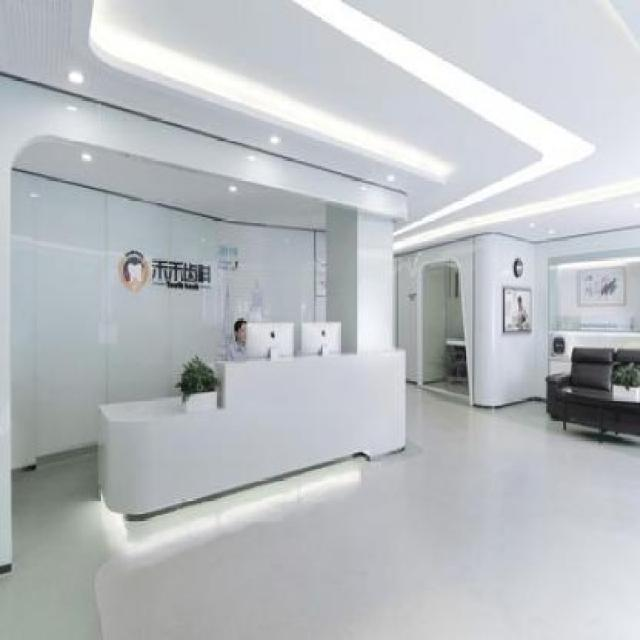frontdesk: (90, 344, 412, 528)
